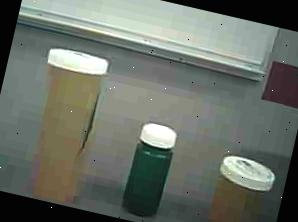Bottle A: (12, 39, 128, 212)
Bottle B: (199, 148, 283, 222)
Bottle C: (113, 113, 194, 222)
